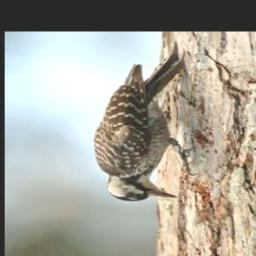Woodpecker: (92, 43, 199, 206)
